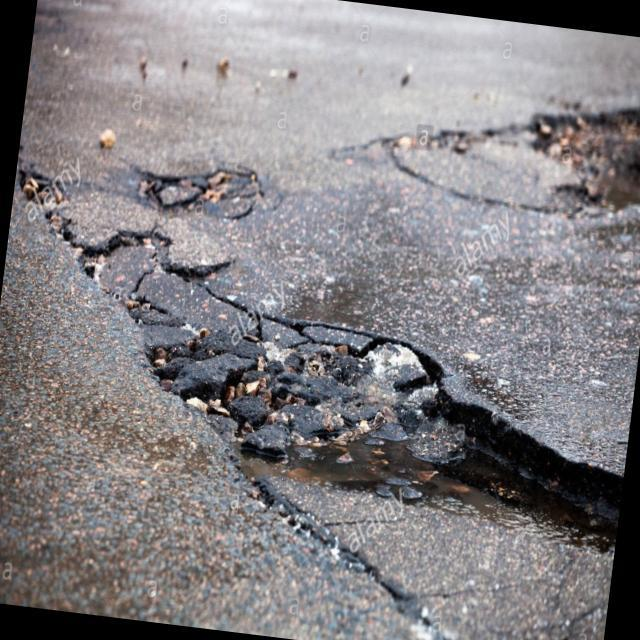Pothole: (57, 239, 640, 594), (441, 72, 640, 217), (131, 156, 280, 228)
